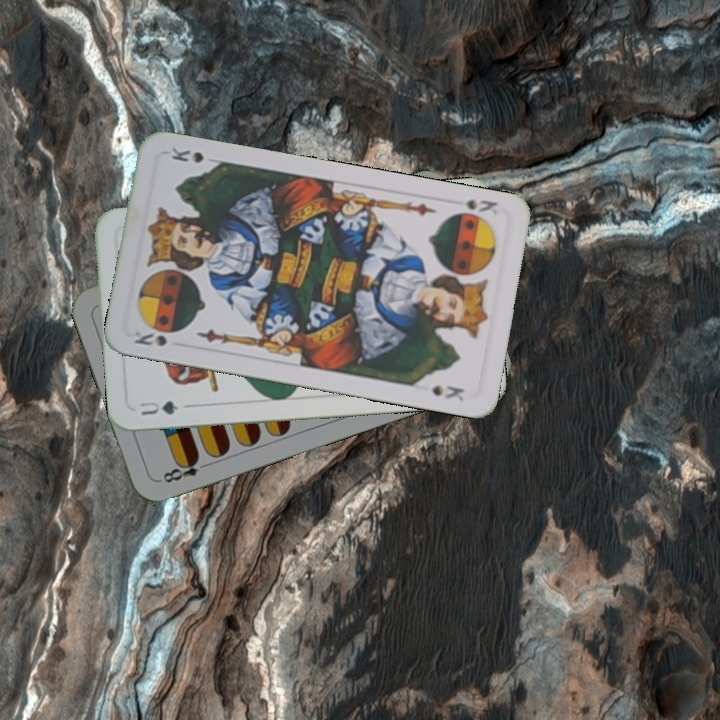E8: (159, 452, 212, 486)
GU: (134, 396, 181, 418)
SK: (128, 326, 170, 349), (460, 195, 501, 217)
